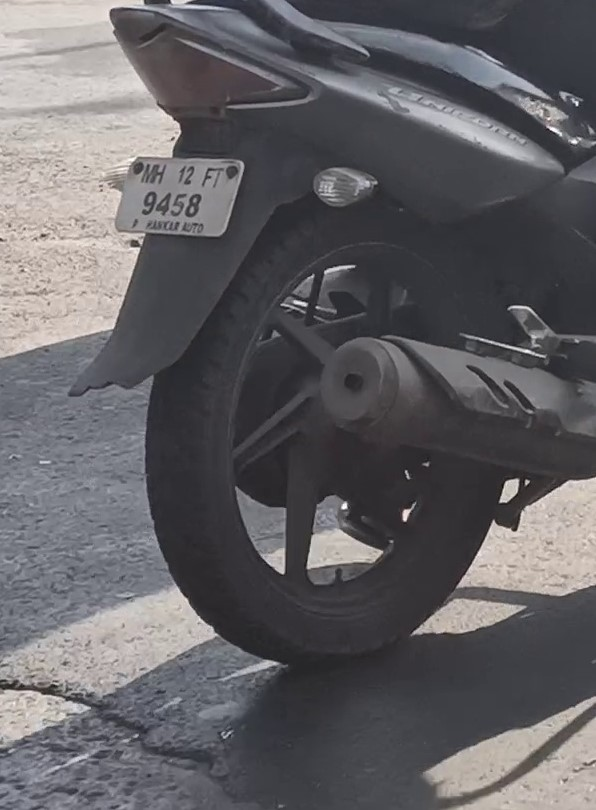MH47AV6753: (115, 155, 244, 238)
